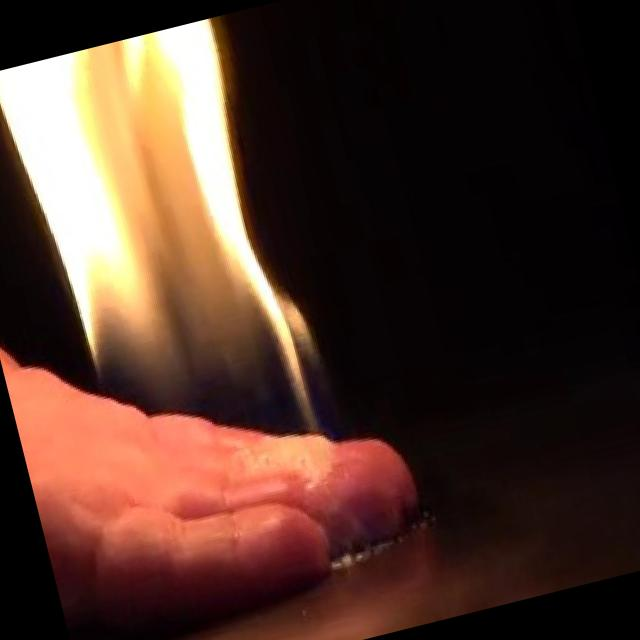Fire: (0, 11, 347, 520)
